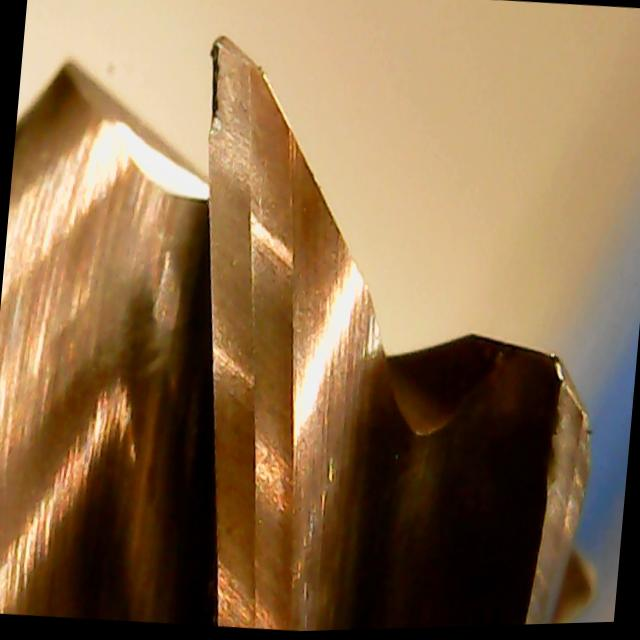Tool-wear-class-1: (170, 29, 331, 366)
